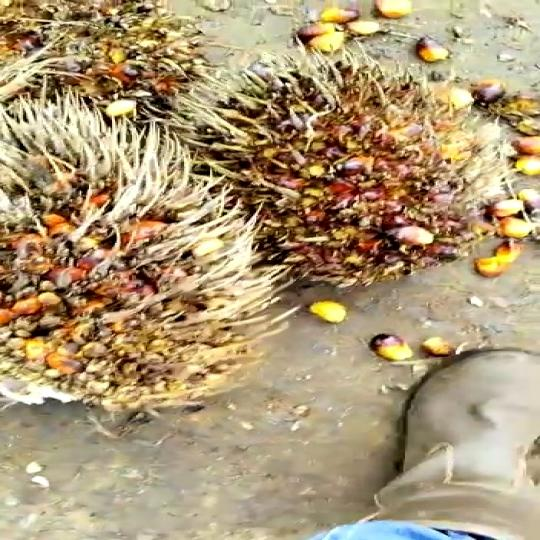terlalu masak: (0, 105, 307, 416), (184, 59, 539, 290)
